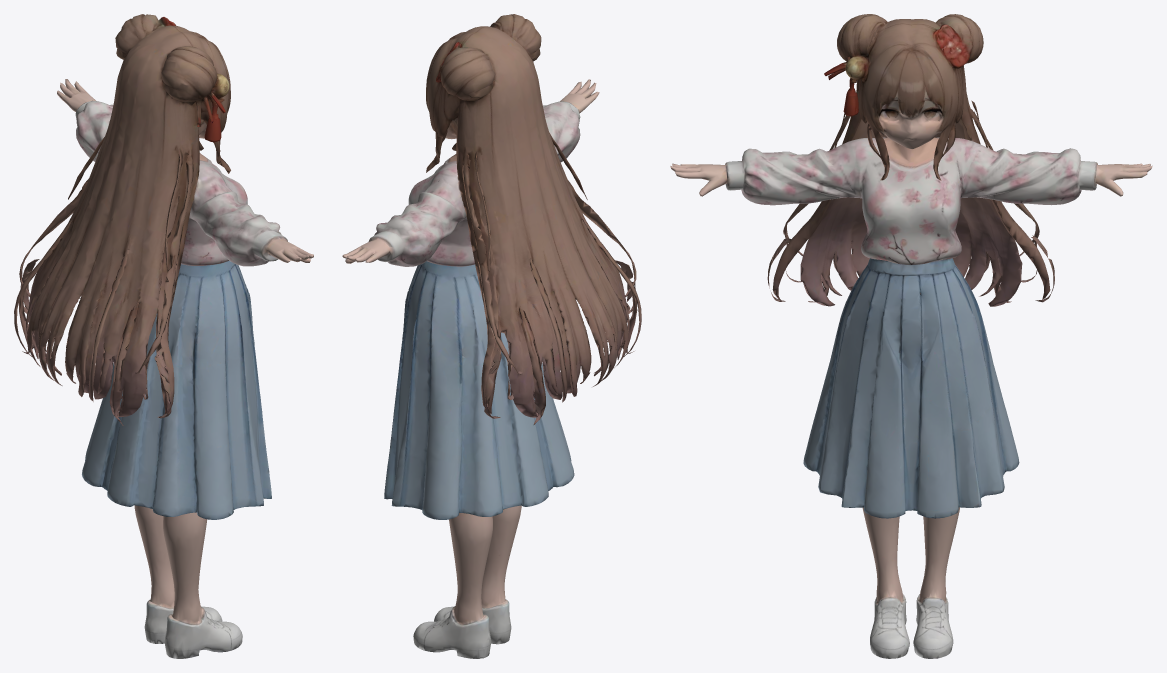
3 renders of one model, left to right at view 1: azimuth 30°, elevation 25°; view 2: azimuth 150°, elevation 25°; view 3: azimuth 270°, elevation 25°, orthographic.
Parts seen in each view (by area): view 1: tripo_node_d9a6d59b-f57c-4ceb-8ae1-322f12dde725; view 2: tripo_node_d9a6d59b-f57c-4ceb-8ae1-322f12dde725; view 3: tripo_node_d9a6d59b-f57c-4ceb-8ae1-322f12dde725.
Part boxes in pixels (x1,y1,x2,y2): tripo_node_d9a6d59b-f57c-4ceb-8ae1-322f12dde725: (14,14,313,658); tripo_node_d9a6d59b-f57c-4ceb-8ae1-322f12dde725: (342,14,641,658); tripo_node_d9a6d59b-f57c-4ceb-8ae1-322f12dde725: (670,14,1152,658).
Size of the model in its own units: 0.3492 by 0.9998 by 0.7139.
1 material, 1 textured.
